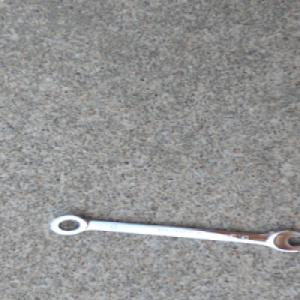Wrench: (47, 214, 300, 253)
